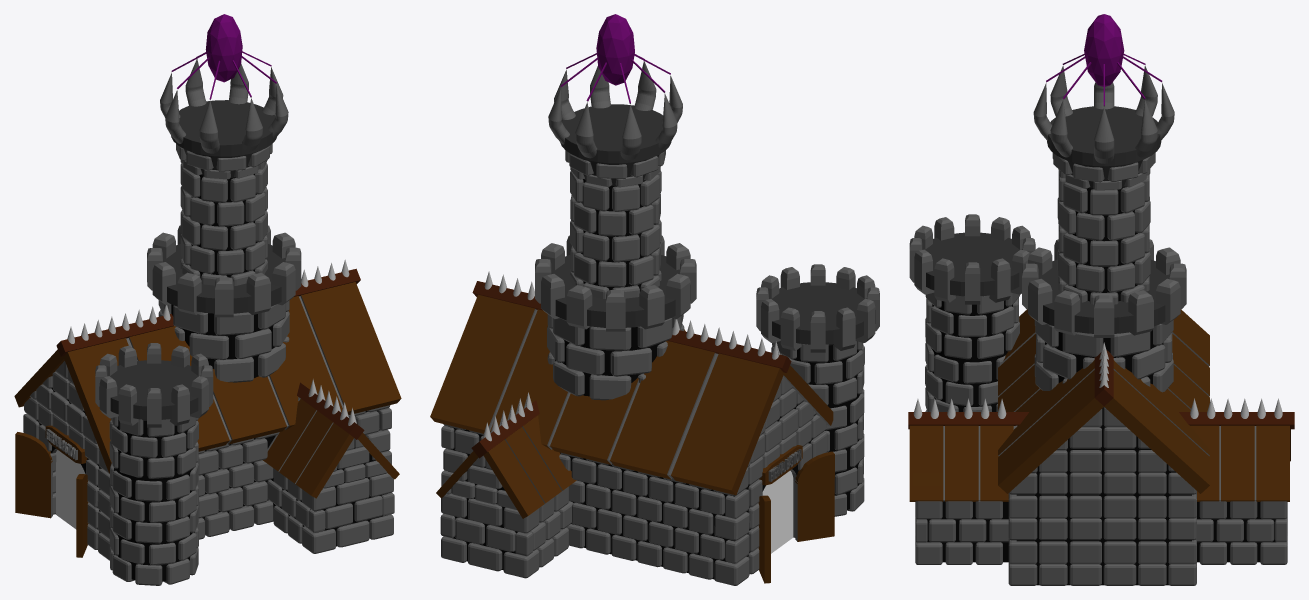
3 views of the same model, side by side, from view 1: azimuth 30°, elevation 25°; view 2: azimuth 150°, elevation 25°; view 3: azimuth 270°, elevation 25° (orthographic). The views are drawn at different scales.
Parts seen in each view (by area): view 1: Cube.132; view 2: Cube.132; view 3: Cube.132.
Boxes of the visible parts, left/top/right/bottom form: Cube.132: left=14, top=14, right=401, bottom=585; Cube.132: left=430, top=14, right=879, bottom=585; Cube.132: left=908, top=14, right=1294, bottom=585.
Bounding box in the file's own units: 5778 × 8371 × 5753.
